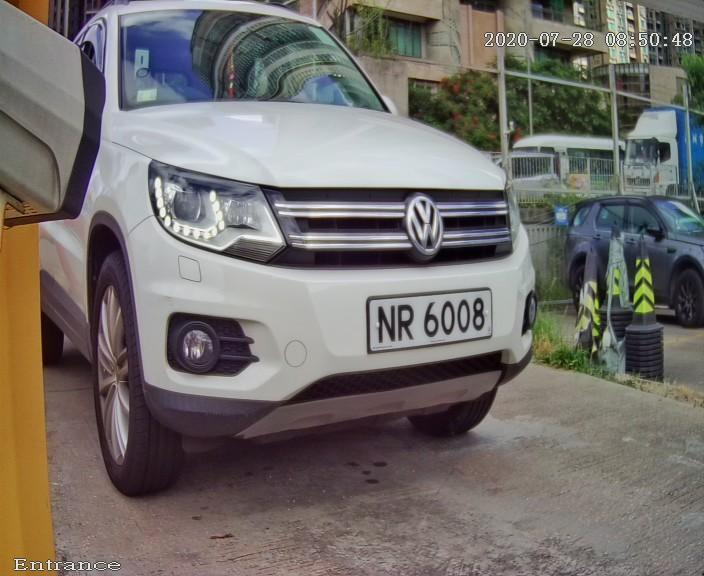privatecar: (51, 1, 604, 512)
